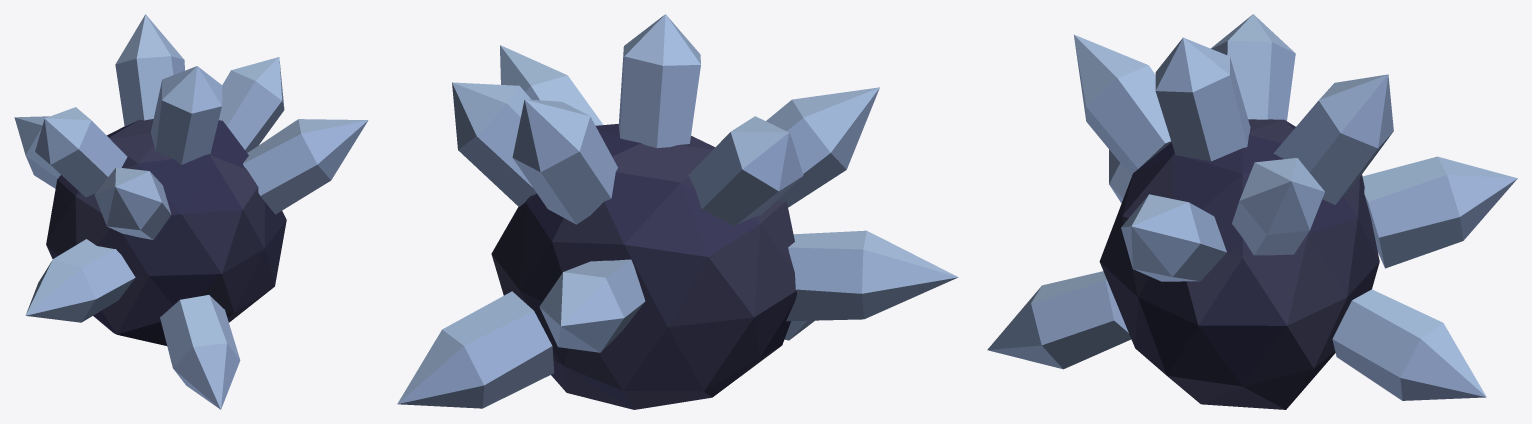
The model's file is Rocks_Ore_Starite_v5_BluePurple.glb.
The picture shows the model from 3 angles, left to right: view 1: azimuth 30°, elevation 25°; view 2: azimuth 150°, elevation 25°; view 3: azimuth 270°, elevation 25°; orthographic projection. The views are drawn at different scales.
Visible parts, largest first — view 1: Rocks_Ore_Starite_v5_BluePurple; view 2: Rocks_Ore_Starite_v5_BluePurple; view 3: Rocks_Ore_Starite_v5_BluePurple.
Part boxes in pixels (left/top/right/bottom): Rocks_Ore_Starite_v5_BluePurple: left=14, top=14, right=368, bottom=409; Rocks_Ore_Starite_v5_BluePurple: left=397, top=14, right=958, bottom=409; Rocks_Ore_Starite_v5_BluePurple: left=987, top=14, right=1517, bottom=409.
Size of the model in its own units: 3.65 by 2.88 by 3.78.
